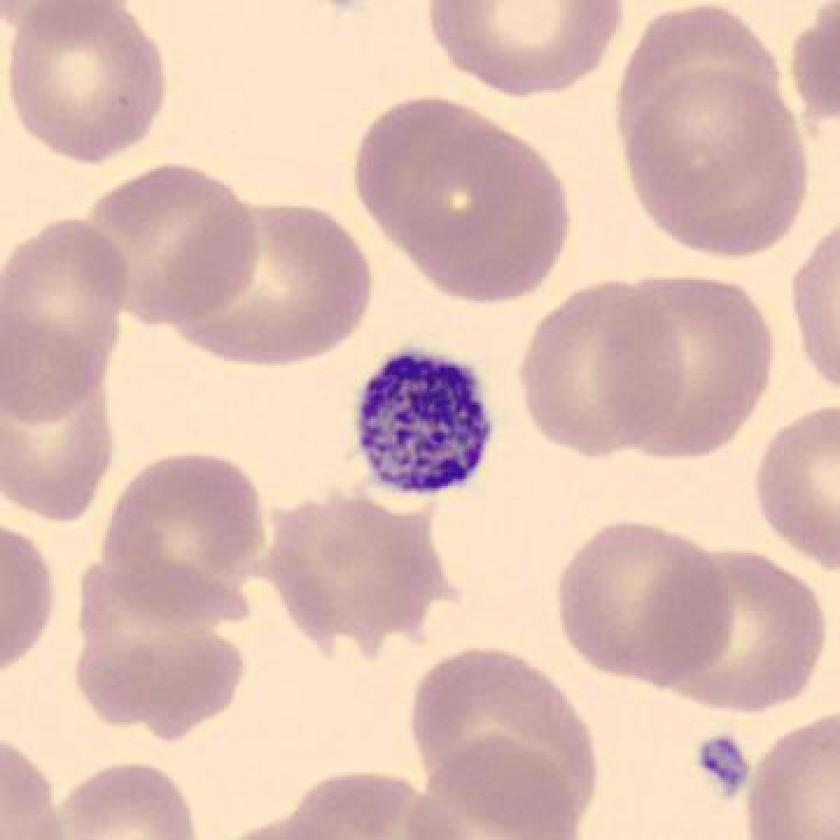platelets: (342, 339, 500, 508), (685, 719, 762, 814)
